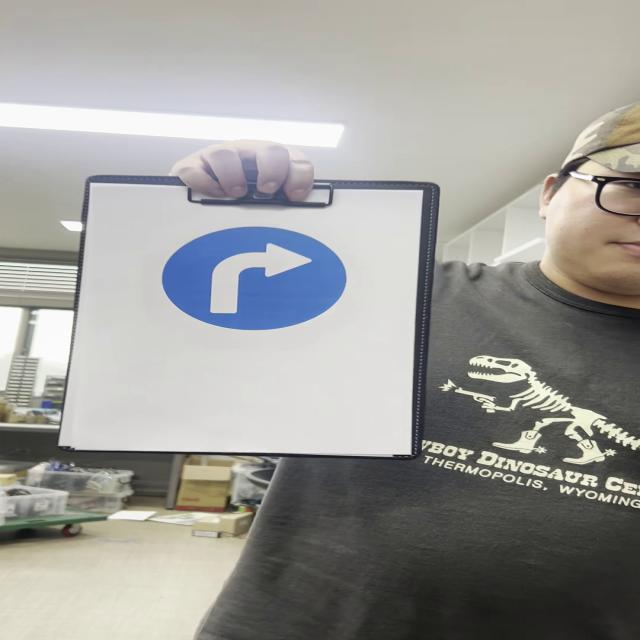right: (160, 228, 351, 329)
